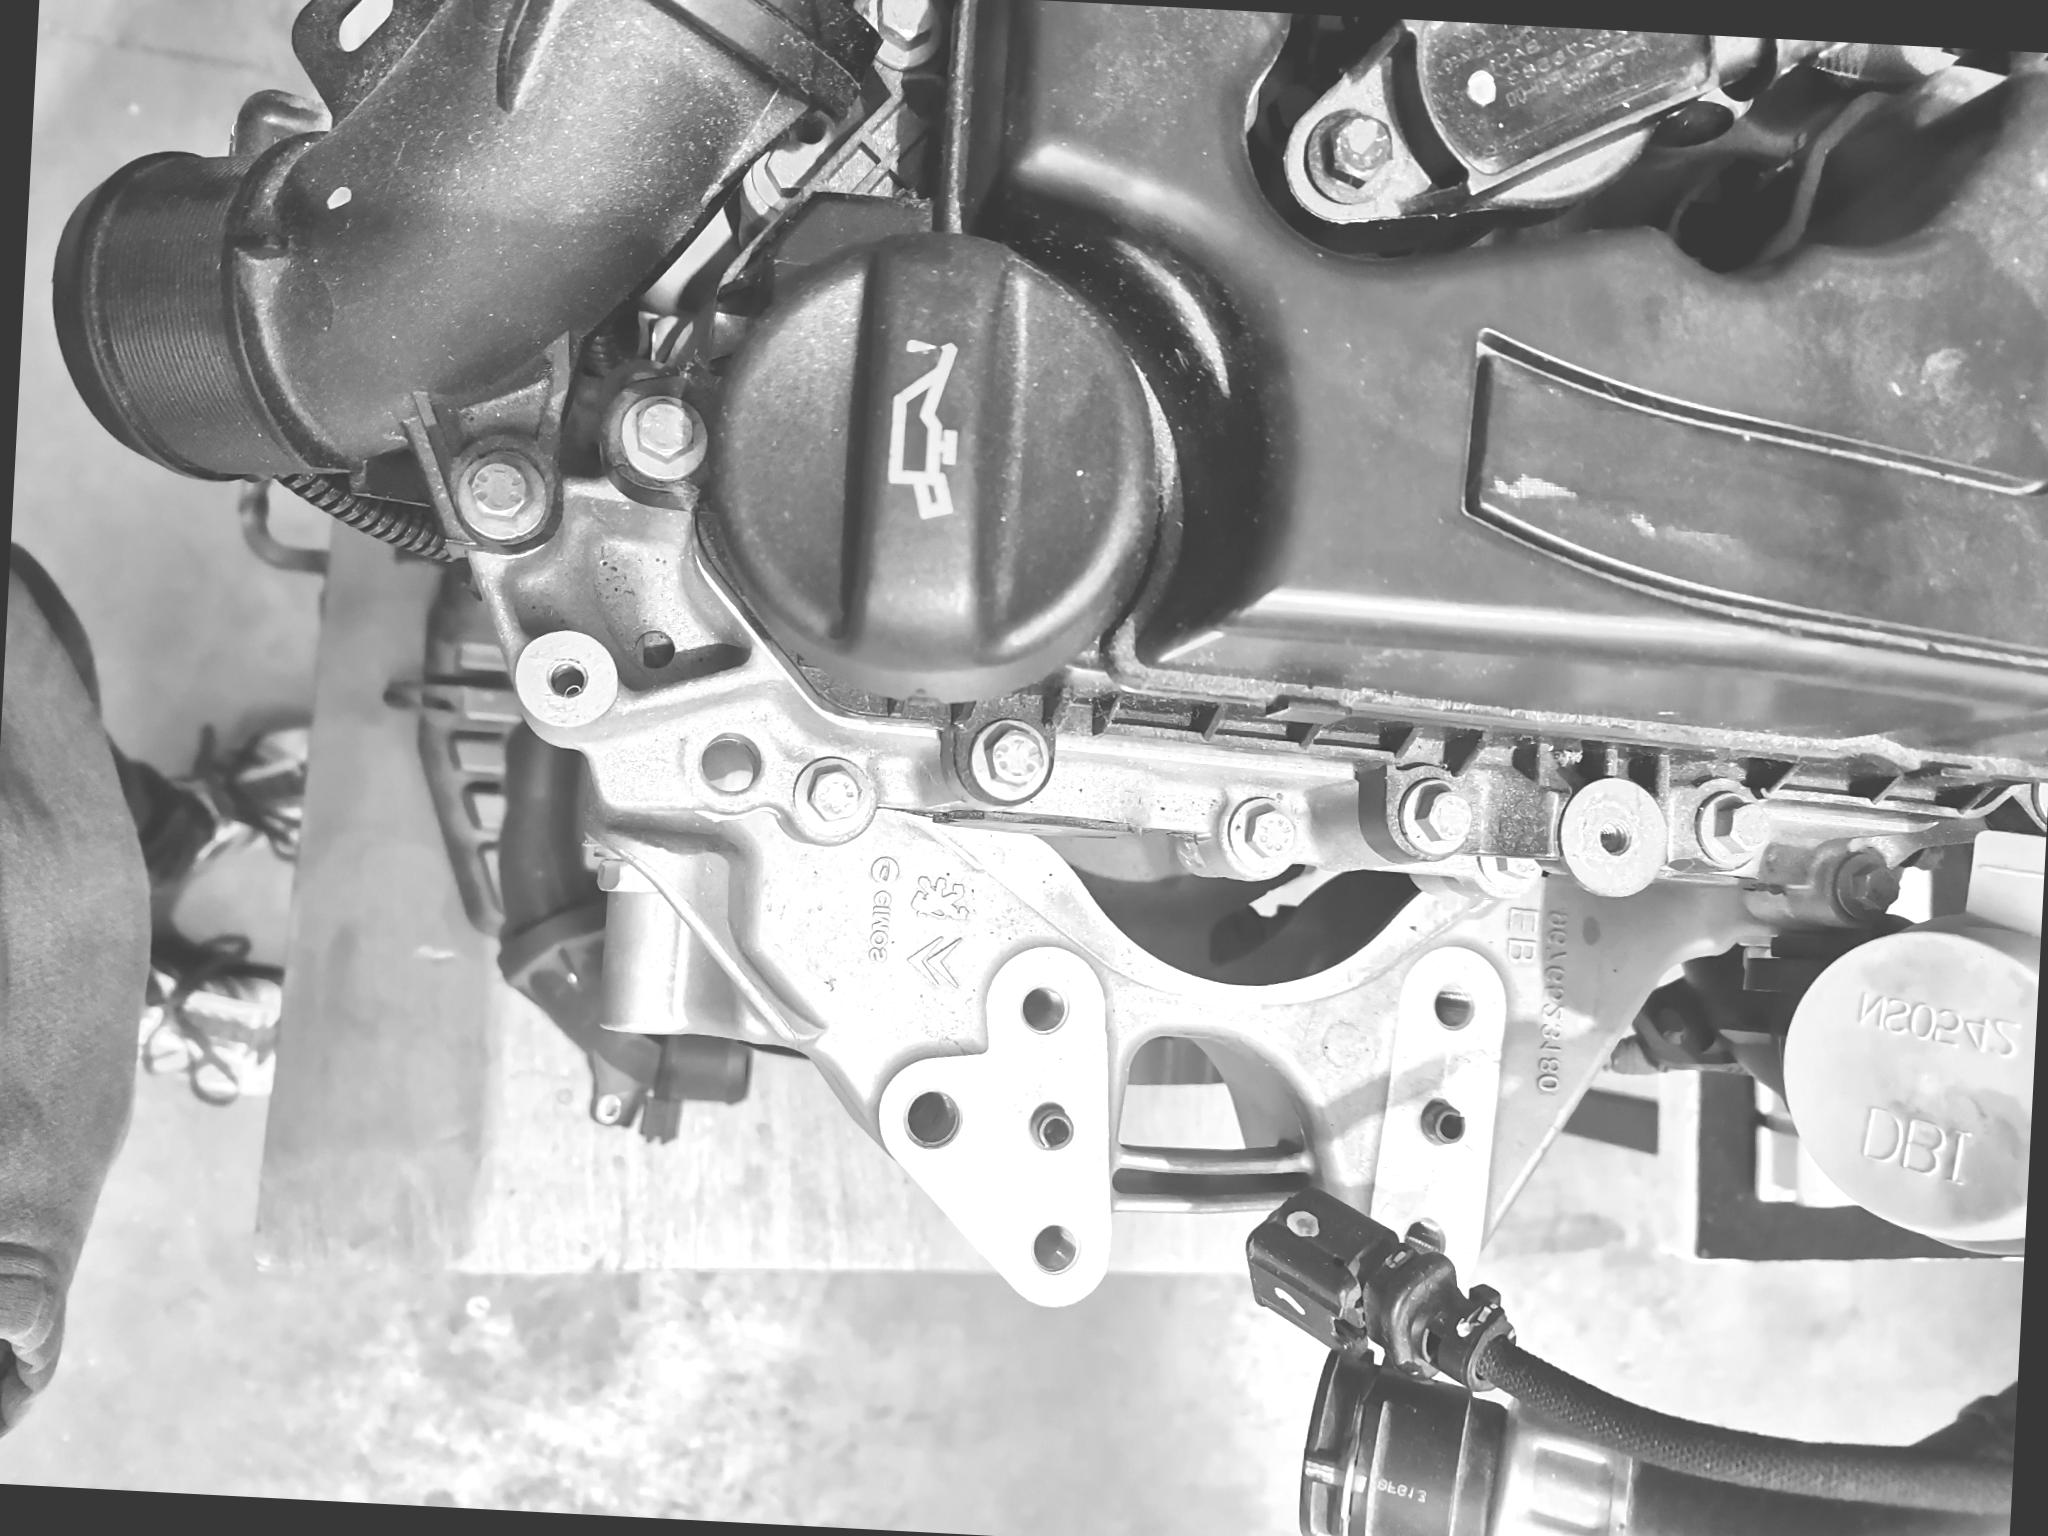hexagonal: (1304, 99, 1404, 200), (614, 384, 712, 483), (458, 447, 557, 544), (1690, 784, 1780, 875), (1392, 778, 1480, 858), (969, 716, 1054, 798), (795, 754, 878, 834), (1220, 798, 1302, 876)
